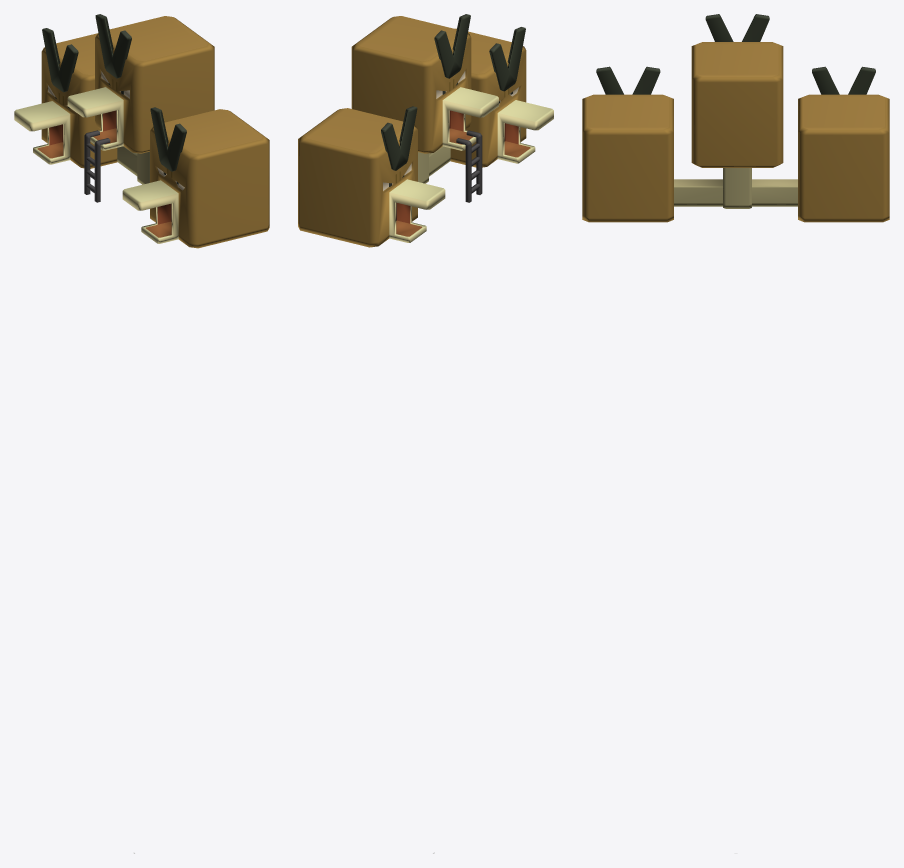
Rendered from G_makeover_L_4.fbx.
3 views of the same model, side by side, from view 1: azimuth 30°, elevation 25°; view 2: azimuth 150°, elevation 25°; view 3: azimuth 270°, elevation 25° (orthographic).
Visible parts, largest first — view 1: base; view 2: base; view 3: base.
Boxes of the visible parts, x1,y1,x2,y2 form: base: (14,14,269,248); base: (298,14,553,247); base: (582,14,889,222).
Bounding box in the file's own units: 5.66 × 37.59 × 12.62.
